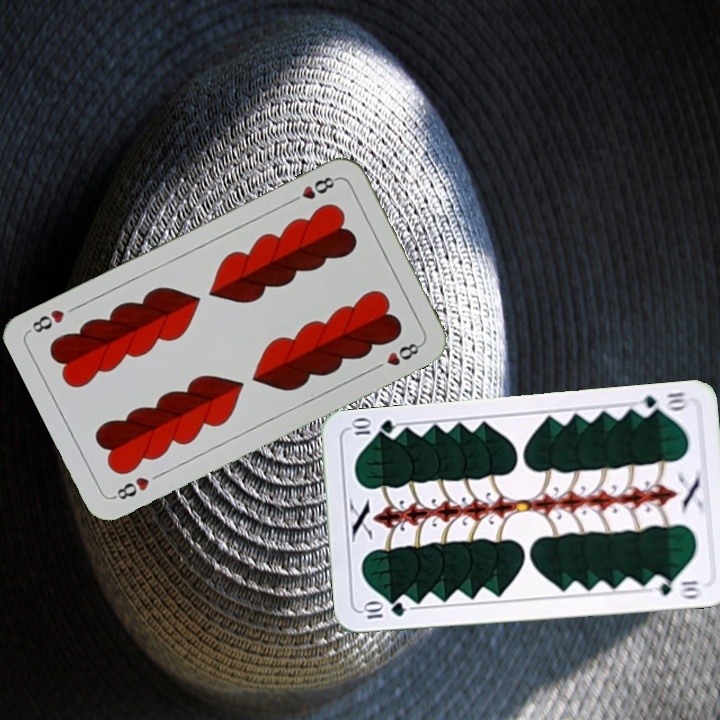G10: (633, 388, 691, 418), (359, 599, 409, 622)
H8: (285, 172, 341, 206), (109, 472, 152, 503)
